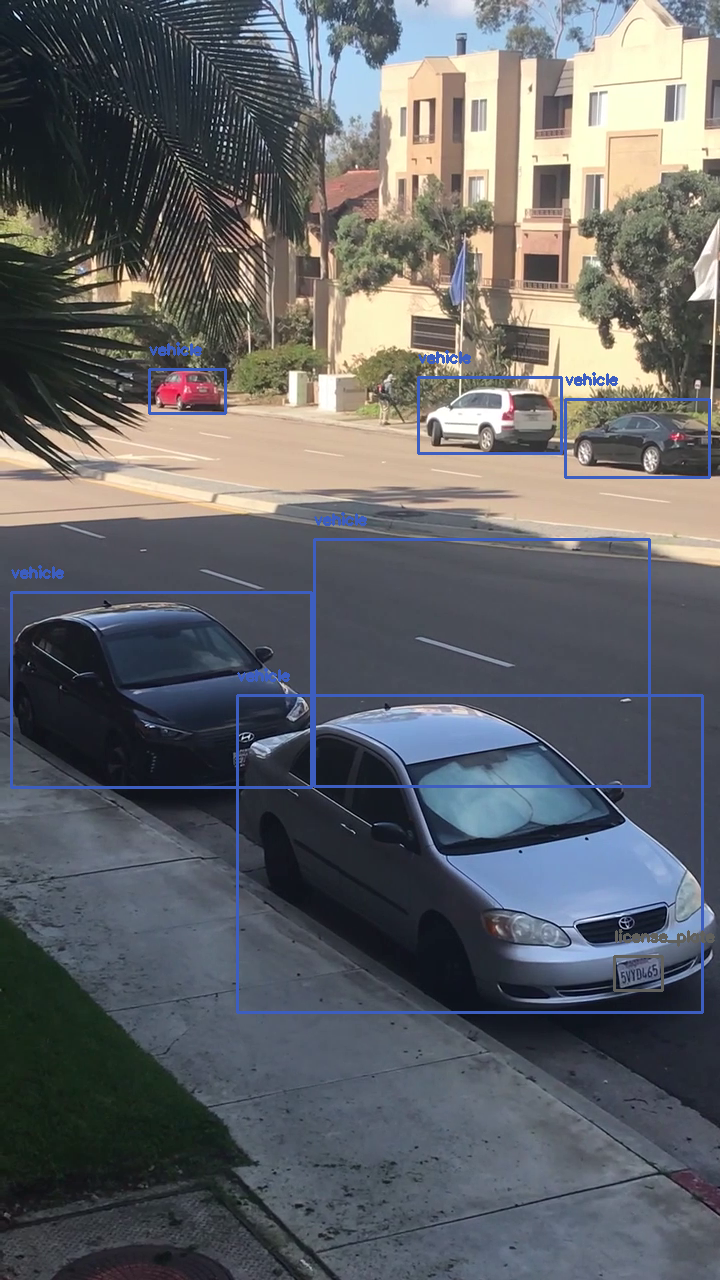license_plate: (614, 956, 662, 990)
vehicle: (237, 695, 702, 1012), (314, 539, 649, 786), (11, 592, 311, 787), (565, 399, 709, 477), (418, 377, 561, 453), (149, 369, 225, 413)
